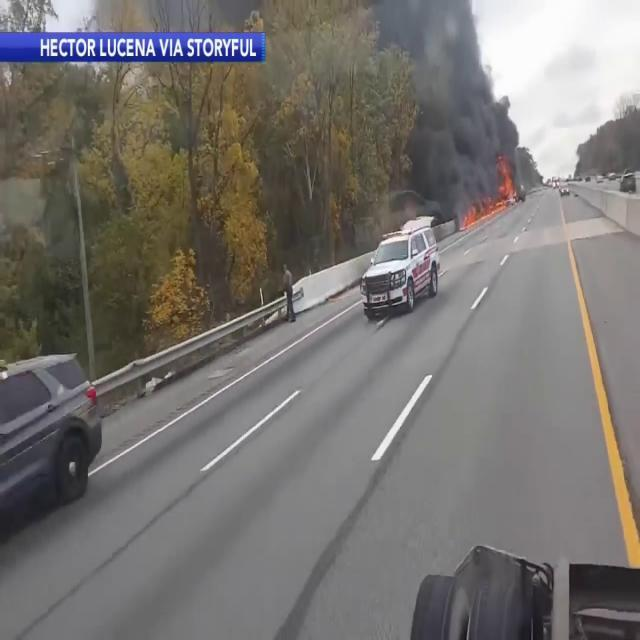Fire: (461, 162, 519, 228), (494, 157, 518, 210)
Smoke: (388, 1, 522, 209)
